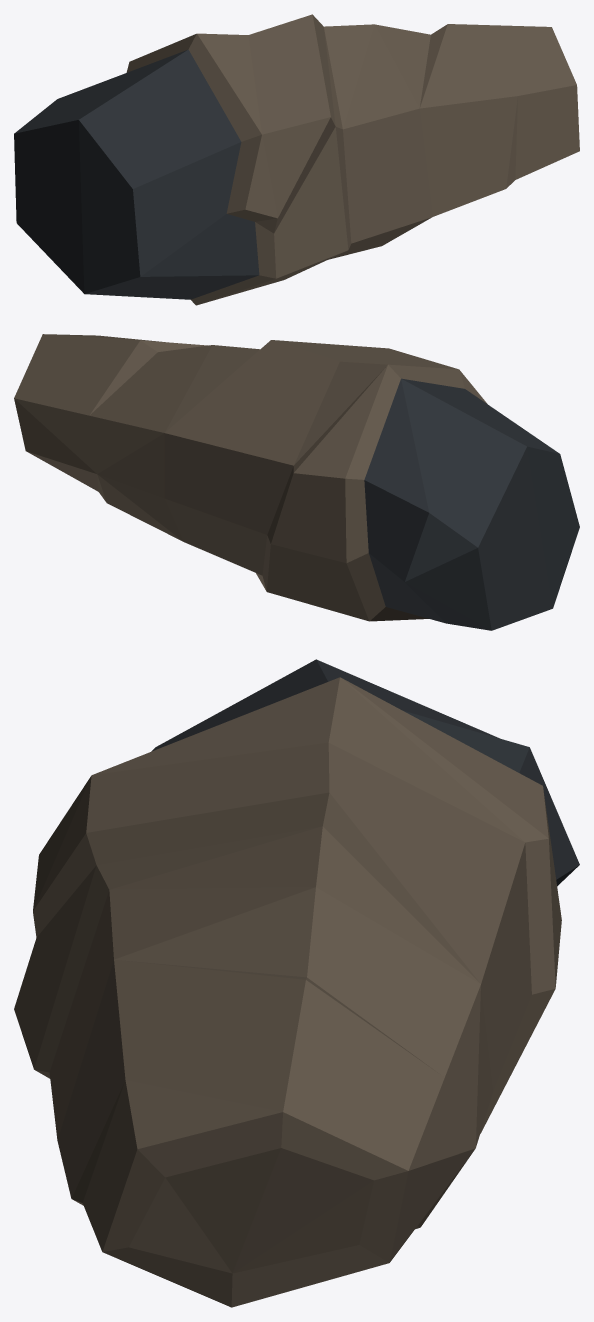
The model's file is Chr_ArmLowerLeft_Male_03_Static.fbx.
3 renders of one model, top to bottom at view 1: azimuth 30°, elevation 25°; view 2: azimuth 150°, elevation 25°; view 3: azimuth 270°, elevation 25°, orthographic. The views are drawn at different scales.
Visible parts, largest first — view 1: Chr_ArmLowerLeft_Male_03_Static; view 2: Chr_ArmLowerLeft_Male_03_Static; view 3: Chr_ArmLowerLeft_Male_03_Static.
Boxes of the visible parts, x1=… form: Chr_ArmLowerLeft_Male_03_Static: x1=14, y1=14, x2=579, y2=305; Chr_ArmLowerLeft_Male_03_Static: x1=14, y1=334, x2=579, y2=630; Chr_ArmLowerLeft_Male_03_Static: x1=14, y1=659, x2=579, y2=1307.
Bounding box in the file's own units: 0.2909 × 0.1442 × 0.1575.
